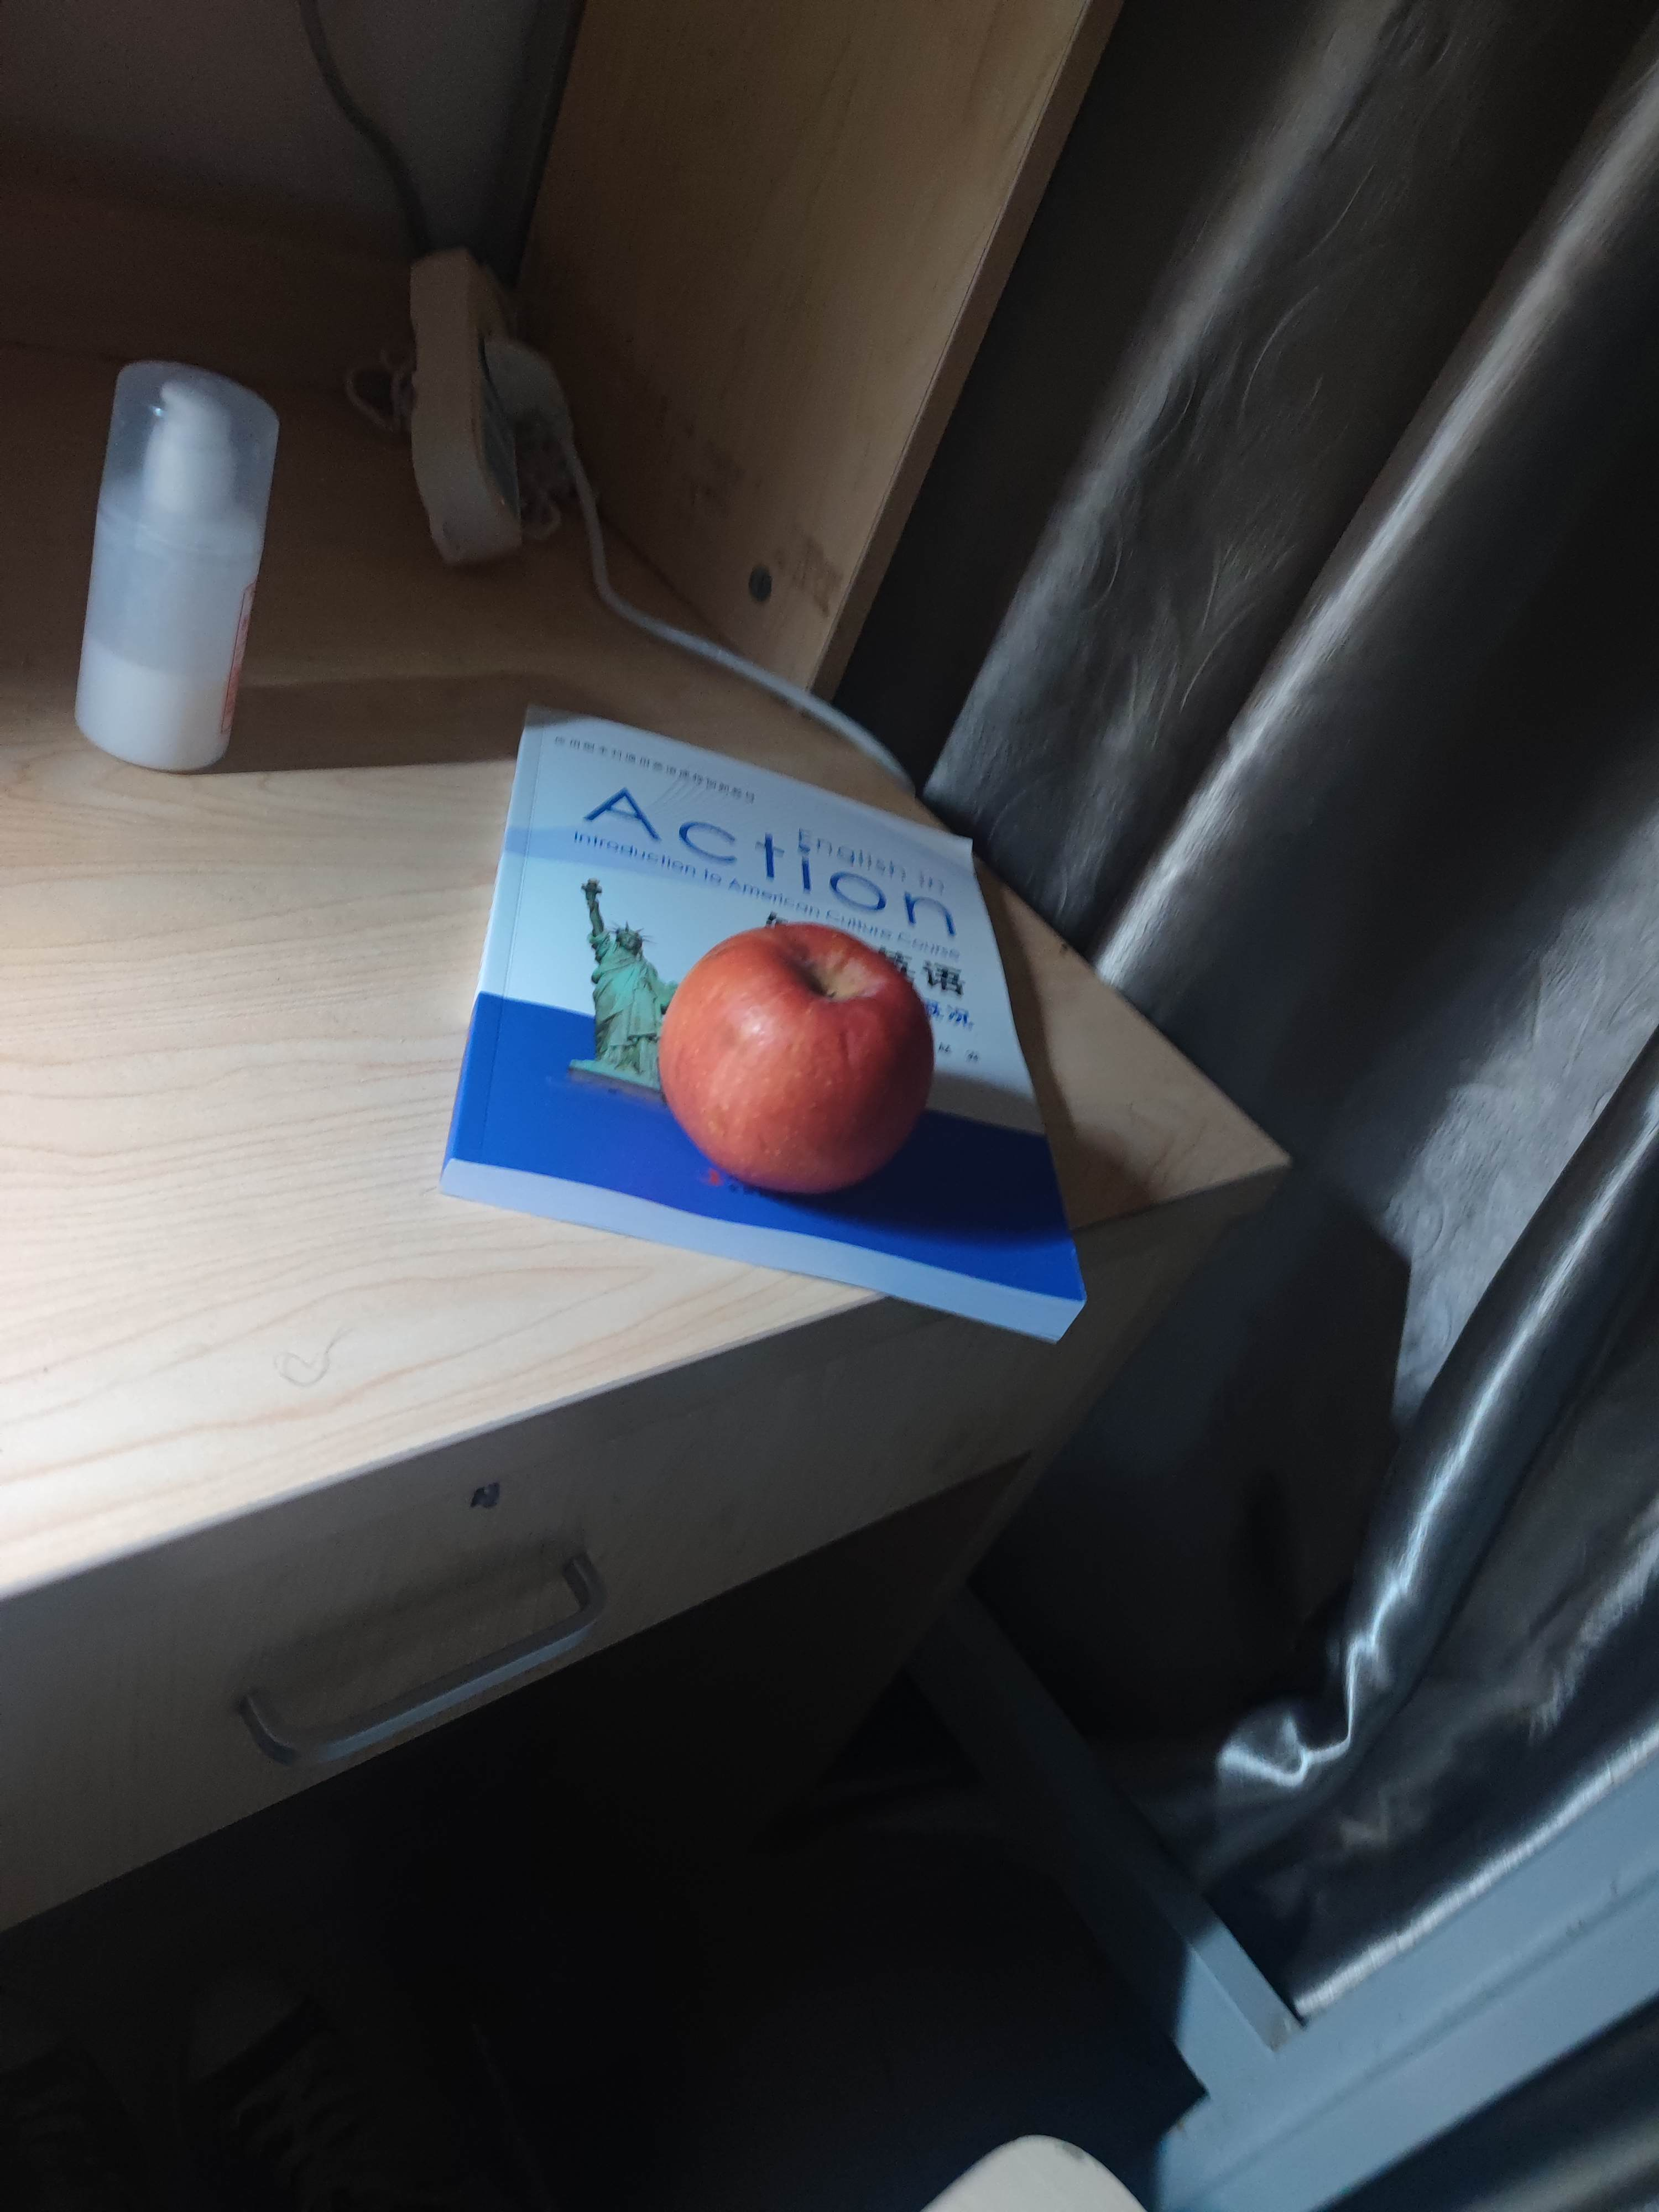apple: (655, 923, 931, 1193)
